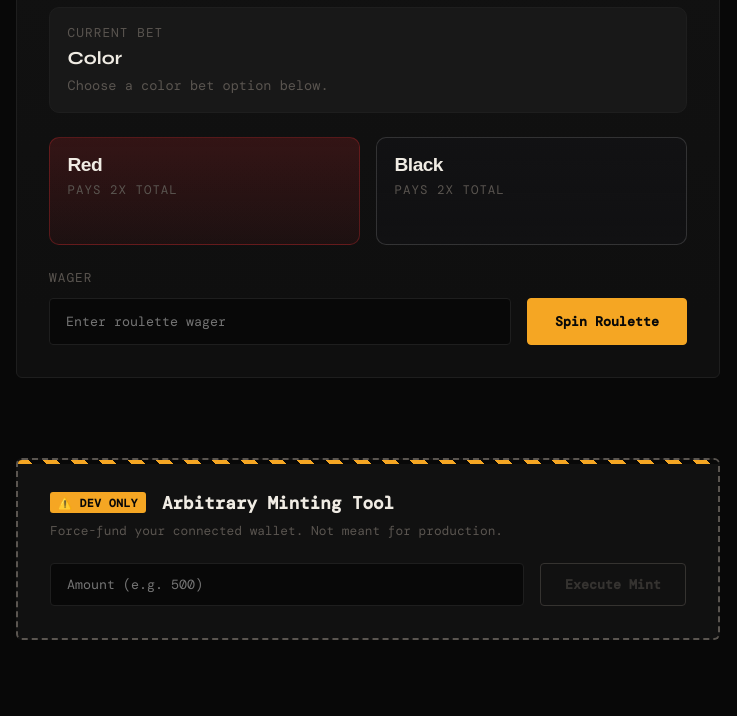
Scenario: EarnPage › handles non-JSON error response in handleDevMint
(page scrolled)
Type "100" into the number field with placeholder "Amount (e.g. 500)". click: (287, 584)
box: [50,563,524,606]
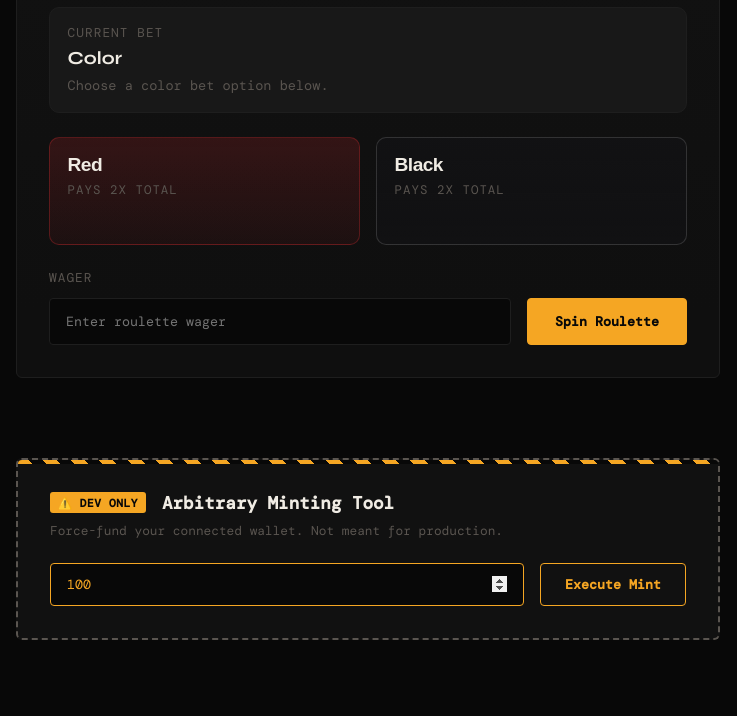
Click the button "Execute Mint". click: (613, 584)
box: [540,563,686,606]
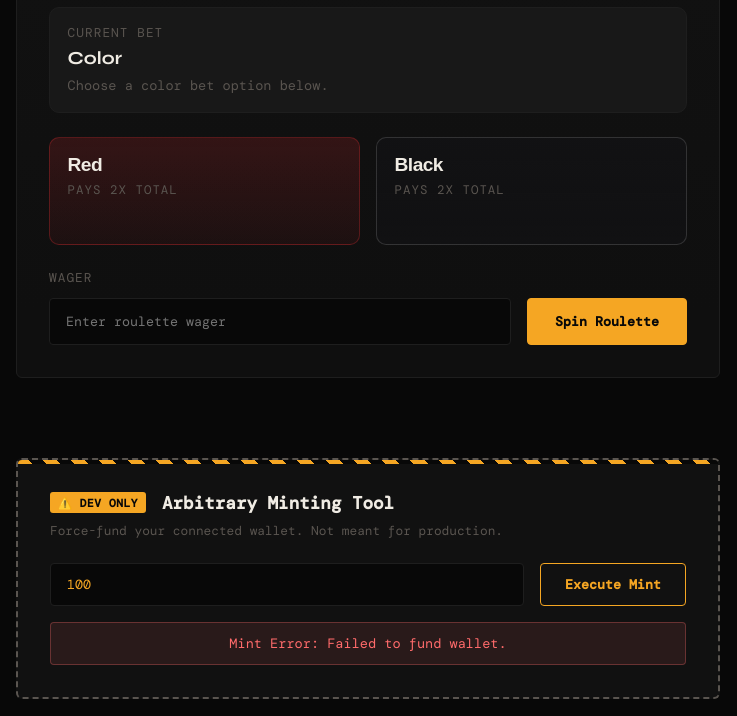
expect the text "Mint Error: Failed to fund wallet." is shown: met, box [50,622,686,665]
